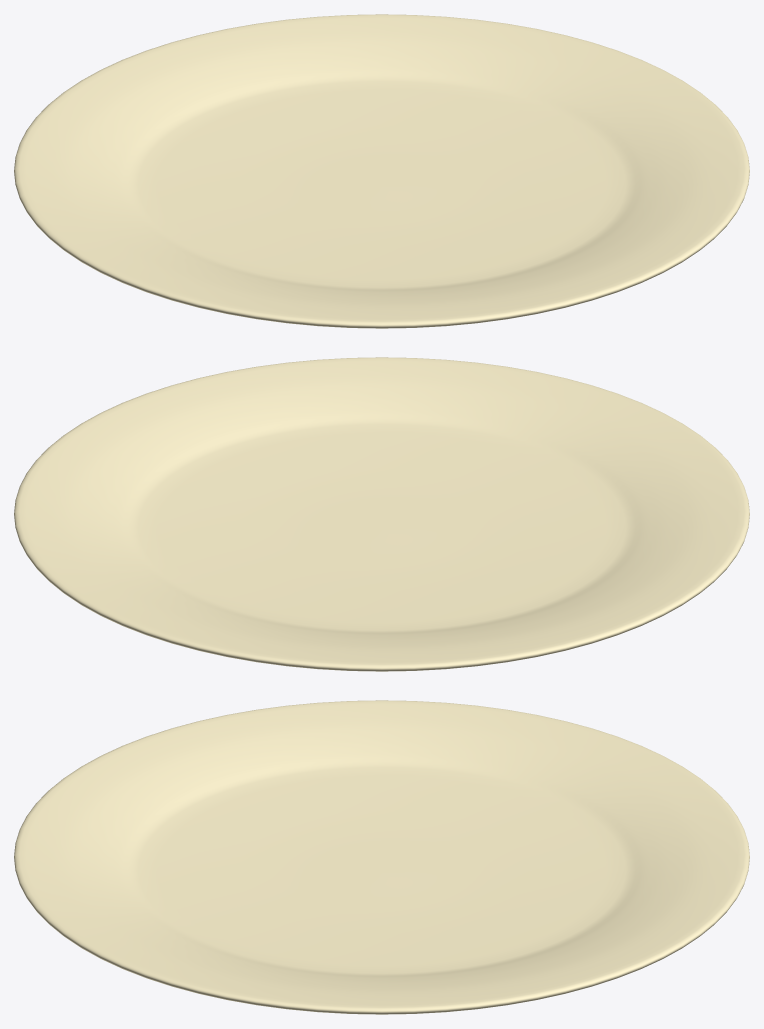
File: assiette.fbx
3 views of the same model, one above another, from view 1: azimuth 30°, elevation 25°; view 2: azimuth 150°, elevation 25°; view 3: azimuth 270°, elevation 25° (orthographic).
Parts seen in each view (by area): view 1: Plate_Lathe; view 2: Plate_Lathe; view 3: Plate_Lathe.
Boxes of the visible parts, left/top/right/bottom form: Plate_Lathe: left=14, top=14, right=749, bottom=328; Plate_Lathe: left=14, top=357, right=749, bottom=671; Plate_Lathe: left=14, top=700, right=749, bottom=1014.
Size of the model in its own units: 118 by 5.31 by 118.
